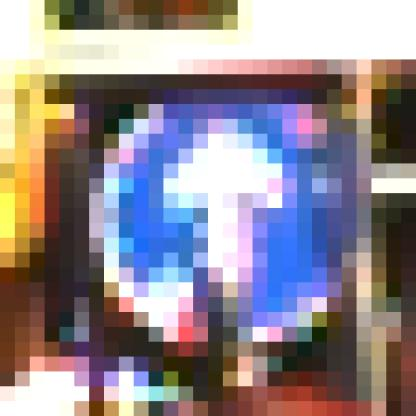AheadOnly: (90, 90, 343, 343)
